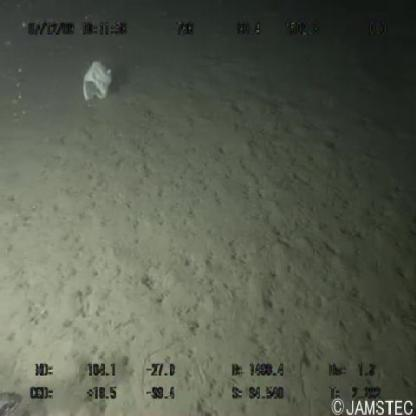Rác: (76, 57, 118, 106)
